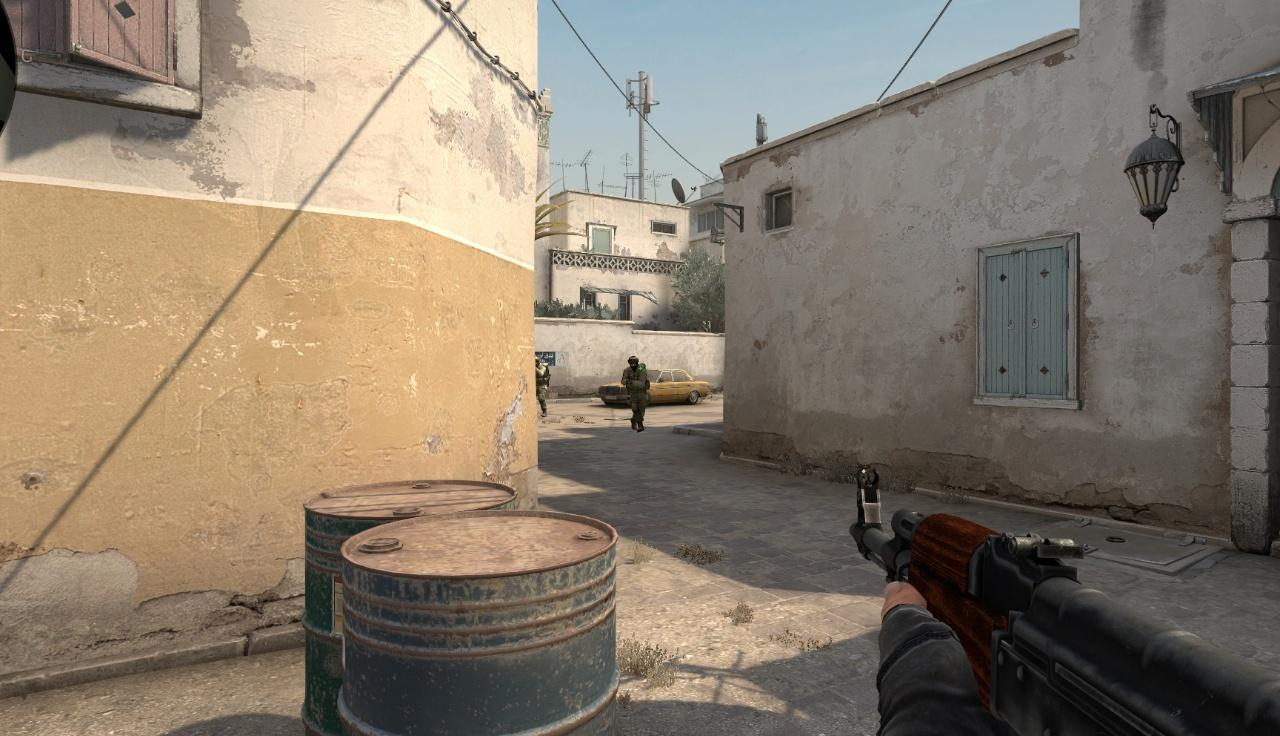ct: (622, 356, 648, 432), (534, 357, 549, 417)
cthead: (629, 356, 638, 369), (535, 358, 539, 367)
rifle: (851, 467, 1280, 736)
